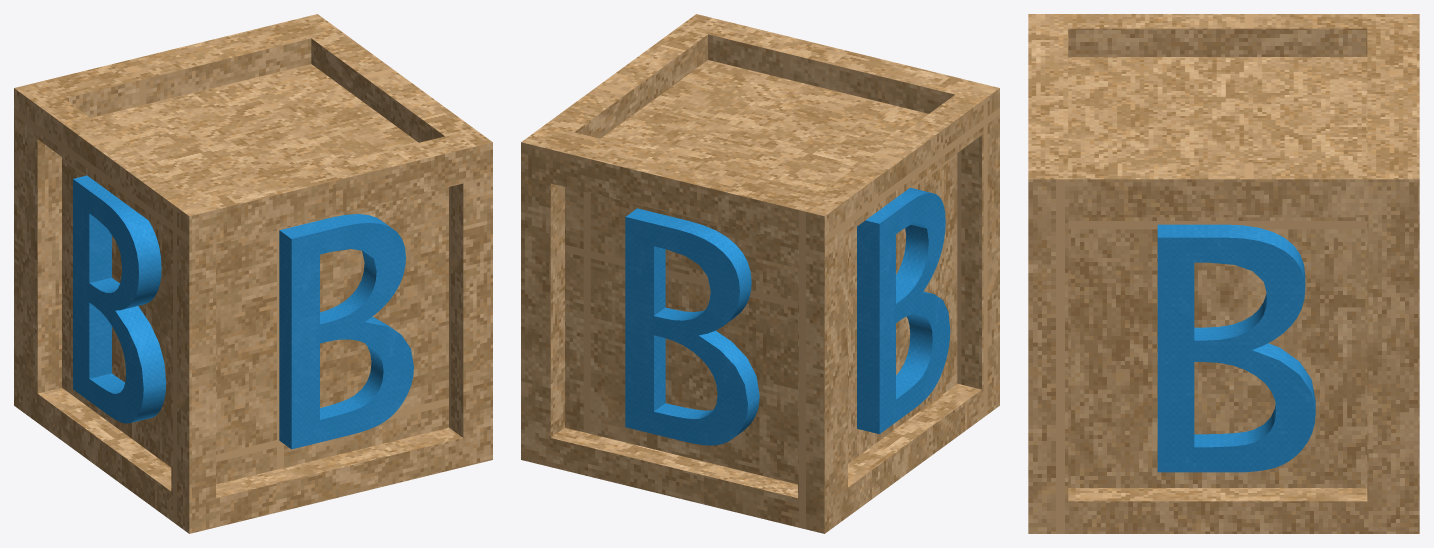
Rendered from Cubi_Arianna_B.fbx.
The picture shows the model from 3 angles, left to right: view 1: azimuth 30°, elevation 25°; view 2: azimuth 150°, elevation 25°; view 3: azimuth 270°, elevation 25°; orthographic projection. The views are drawn at different scales.
Visible parts, largest first — view 1: cuboB.001; view 2: cuboB.001; view 3: cuboB.001.
Part boxes in pixels (<box>): cuboB.001: <box>14,14,492,533</box>; cuboB.001: <box>521,14,999,533</box>; cuboB.001: <box>1028,14,1419,533</box>.
Bounding box in the file's own units: 0.3633 × 0.3633 × 0.3633.
Materials: 2 (2 with a texture image).
